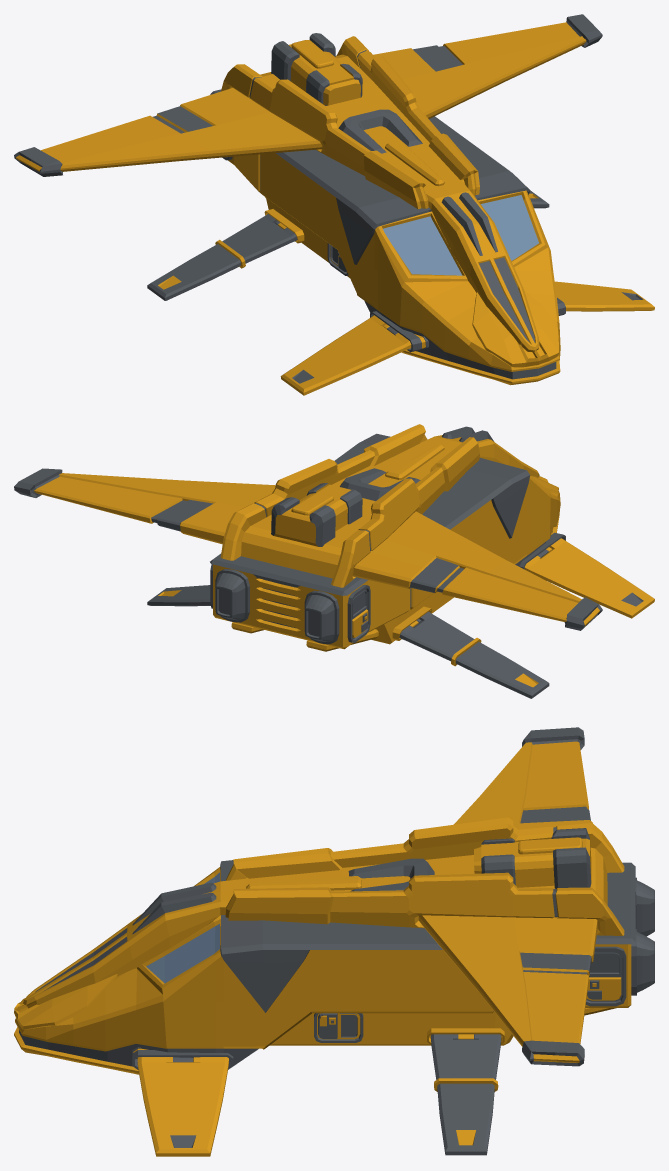
Rendered from Fighter_04_Yellow.fbx.
3 renders of one model, top to bottom at view 1: azimuth 30°, elevation 25°; view 2: azimuth 150°, elevation 25°; view 3: azimuth 270°, elevation 25°, orthographic. The views are drawn at different scales.
Visible parts, largest first — view 1: Fighter_04_Yellow; view 2: Fighter_04_Yellow; view 3: Fighter_04_Yellow.
Part boxes in pixels (x1,y1,x2,y2): Fighter_04_Yellow: (14,14,654,395); Fighter_04_Yellow: (14,424,654,698); Fighter_04_Yellow: (14,727,654,1156).
Size of the model in its own units: 1945 by 600 by 1602.
3 materials, 3 textured.
